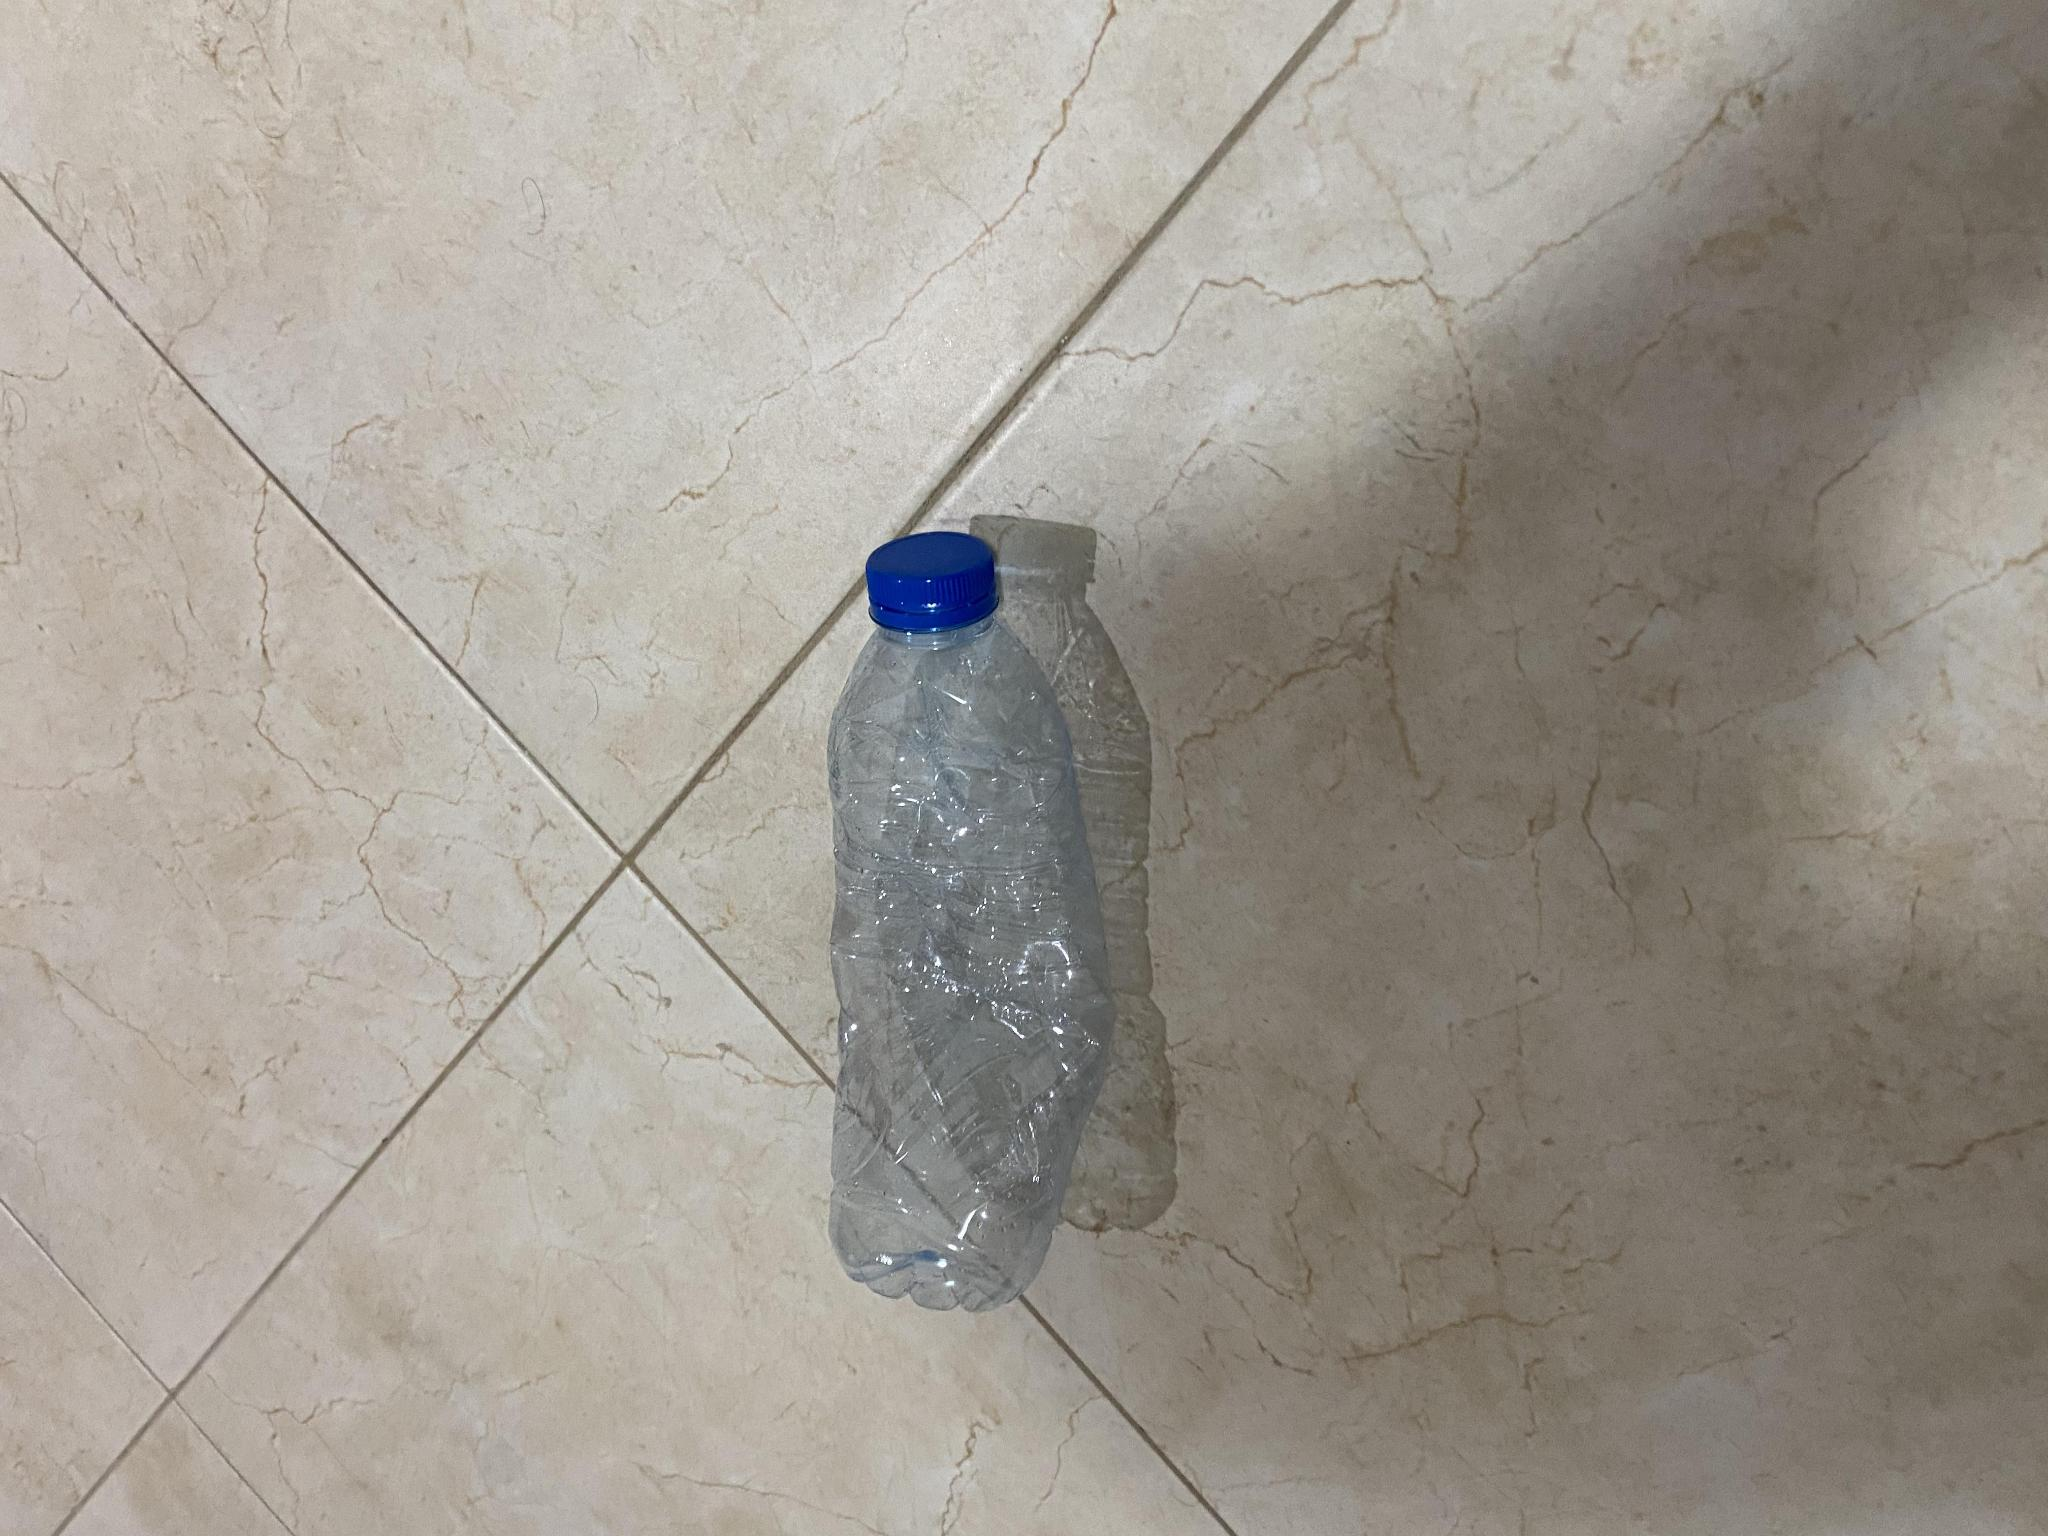bottle: (824, 524, 1121, 1313)
